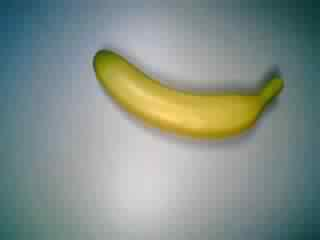banana: (91, 48, 286, 140)
